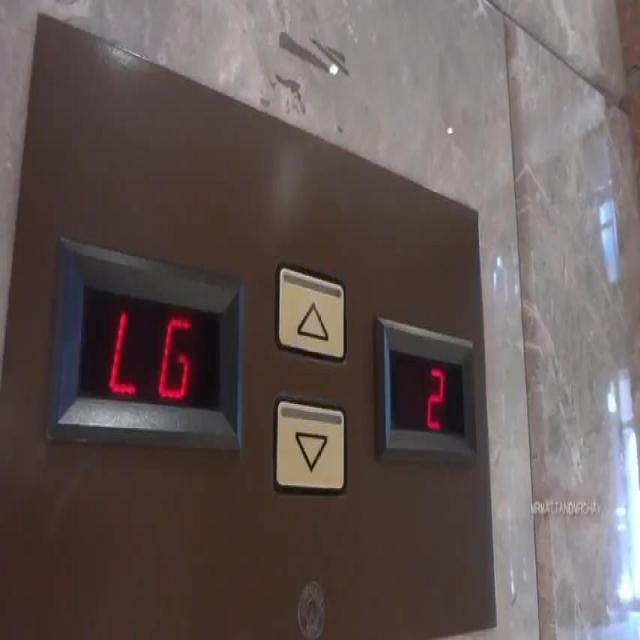down: (272, 389, 350, 495)
keyhole: (295, 570, 328, 638)
led: (72, 278, 229, 422), (387, 340, 468, 437)
up: (274, 256, 350, 365)
